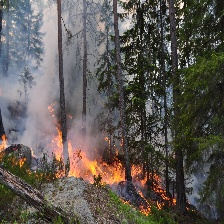fire: (46, 114, 174, 214), (1, 134, 25, 170)
smoke: (6, 1, 122, 147)
